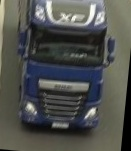truck: (10, 0, 120, 144)
